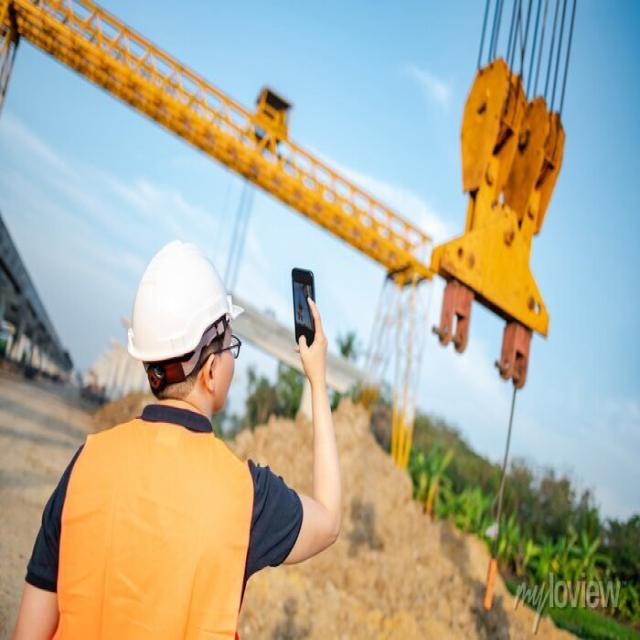helmet: (123, 236, 244, 365)
vest: (81, 406, 251, 640)
